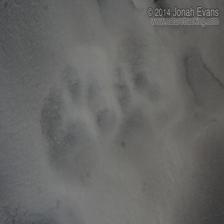lynx: (35, 65, 119, 183)
